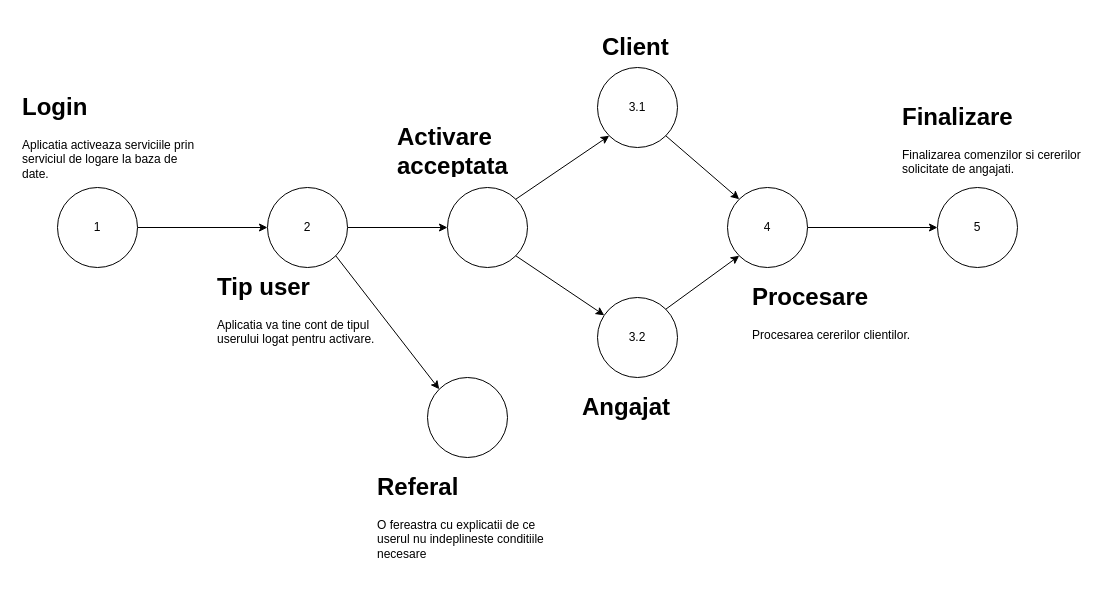
This 1104x604 diagram has some shape labels left out. The box of each missing label's shape, as (x1, y1, x2, y2) in pixels:
3.a: (446, 186, 528, 268)
3.b: (426, 376, 508, 458)
